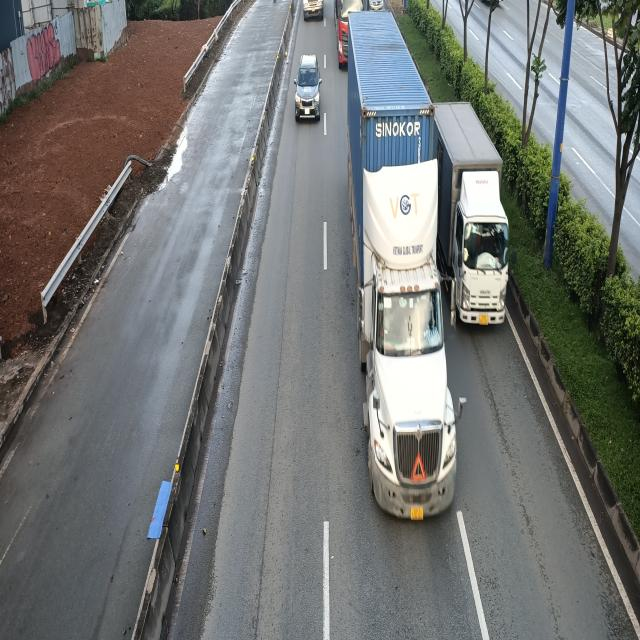car: (293, 52, 320, 121)
container: (347, 7, 468, 515)
truck: (439, 98, 510, 325)
